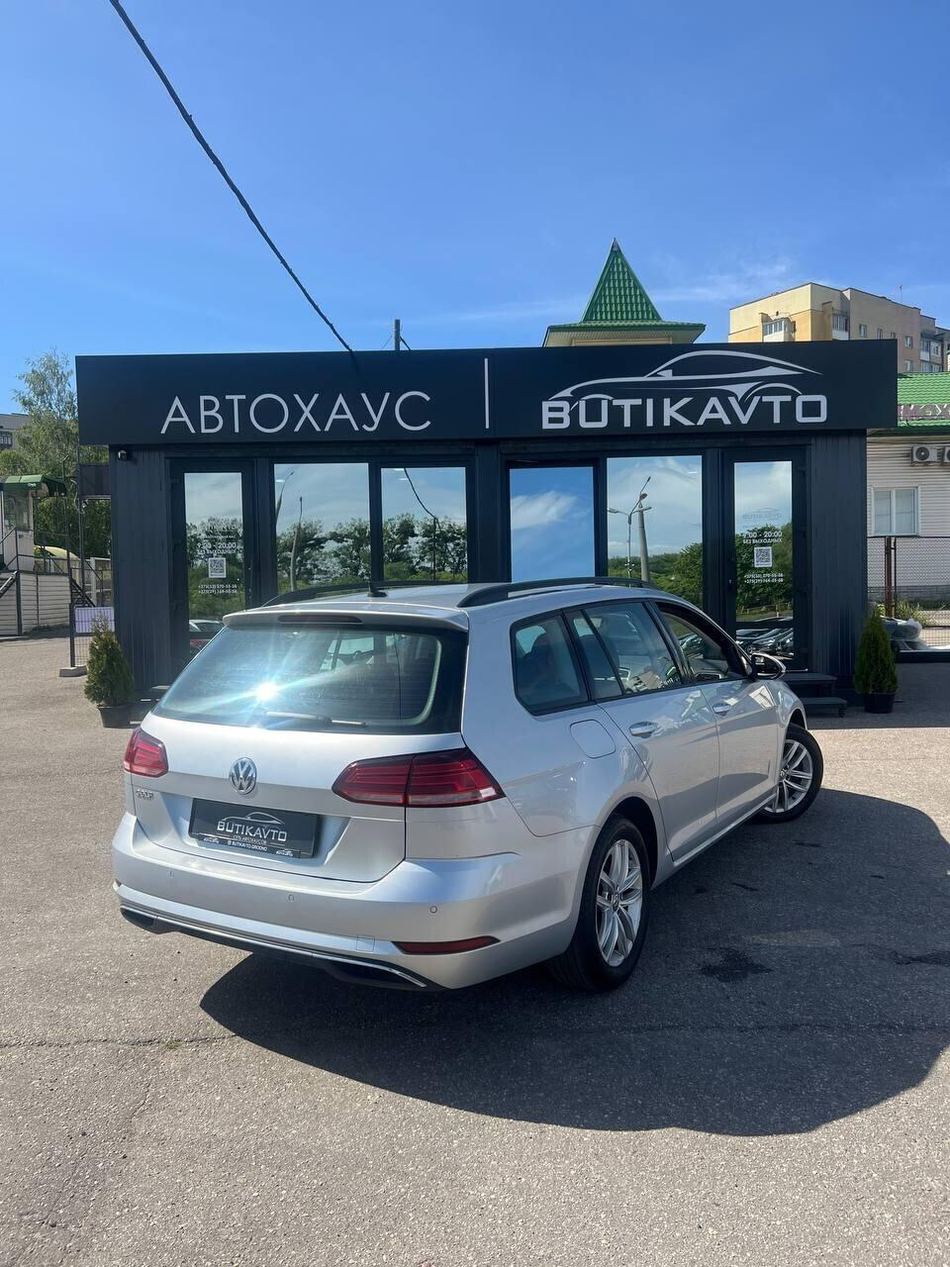Golf_2017-2021: (109, 587, 821, 998)
